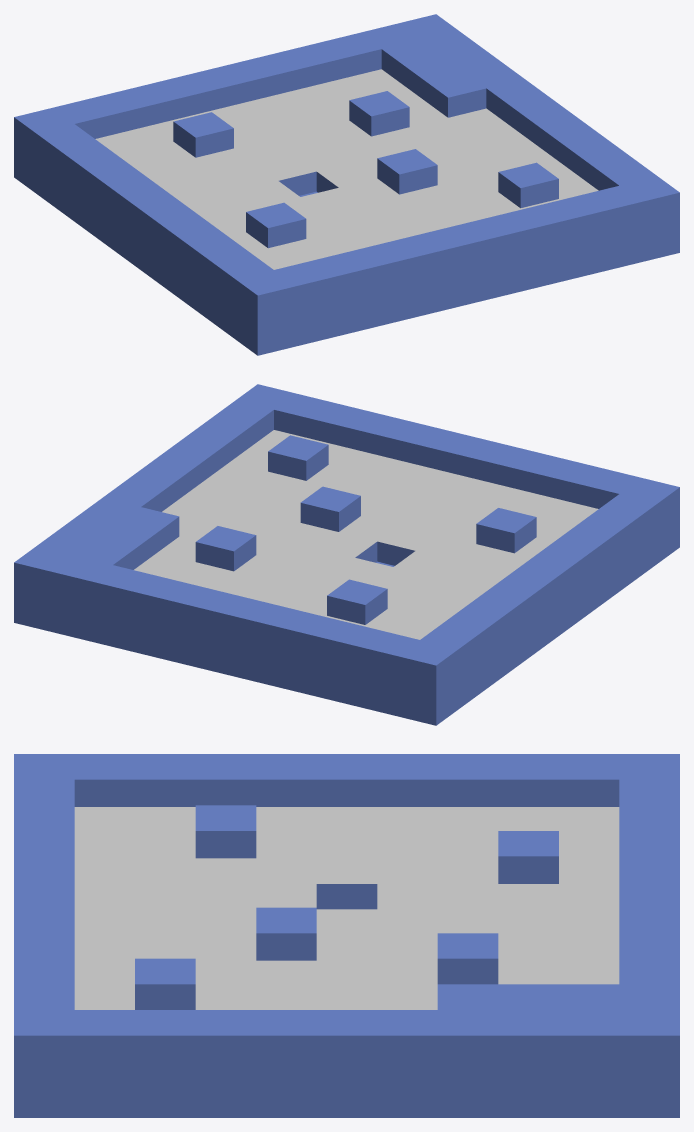
File: 028_platform.fbx
3 renders of one model, top to bottom at view 1: azimuth 30°, elevation 25°; view 2: azimuth 150°, elevation 25°; view 3: azimuth 270°, elevation 25°, orthographic. The views are drawn at different scales.
Parts seen in each view (by area): view 1: Cube; view 2: Cube; view 3: Cube.
Boxes of the visible parts, left/top/right/bottom form: Cube: left=14, top=14, right=679, bottom=355; Cube: left=14, top=384, right=679, bottom=725; Cube: left=14, top=754, right=679, bottom=1117.
Bounding box in the file's own units: 1100 × 150 × 1100.
